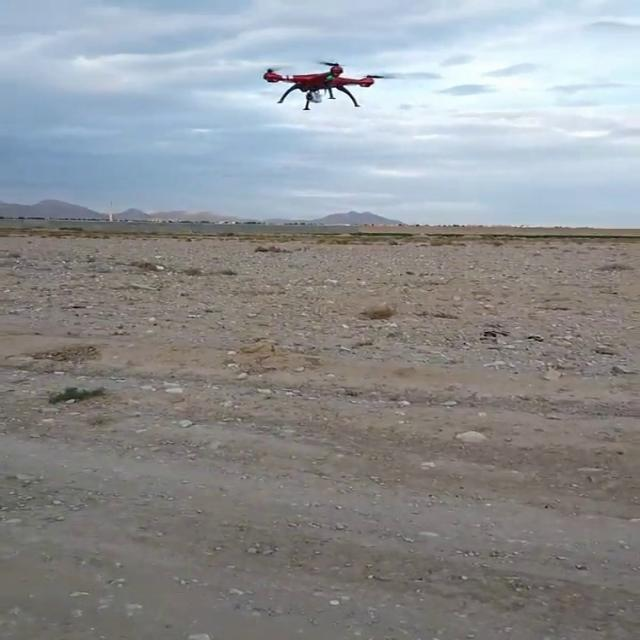drone: (252, 56, 393, 114)
